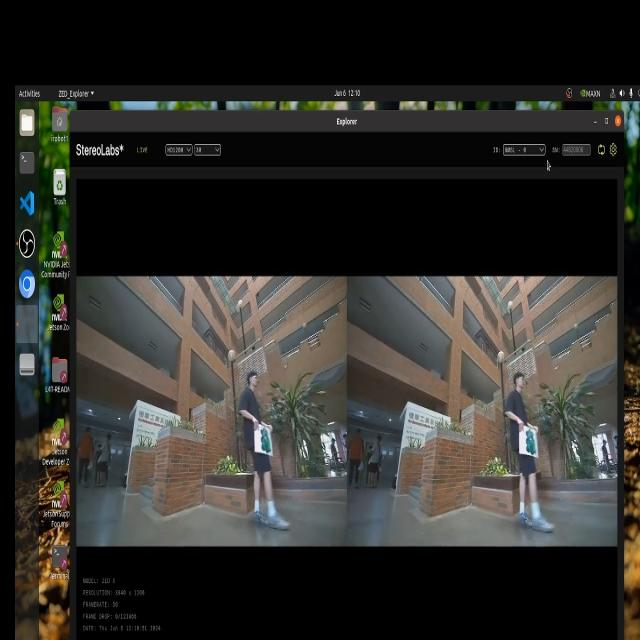green: (521, 434, 538, 455), (260, 426, 270, 450)
